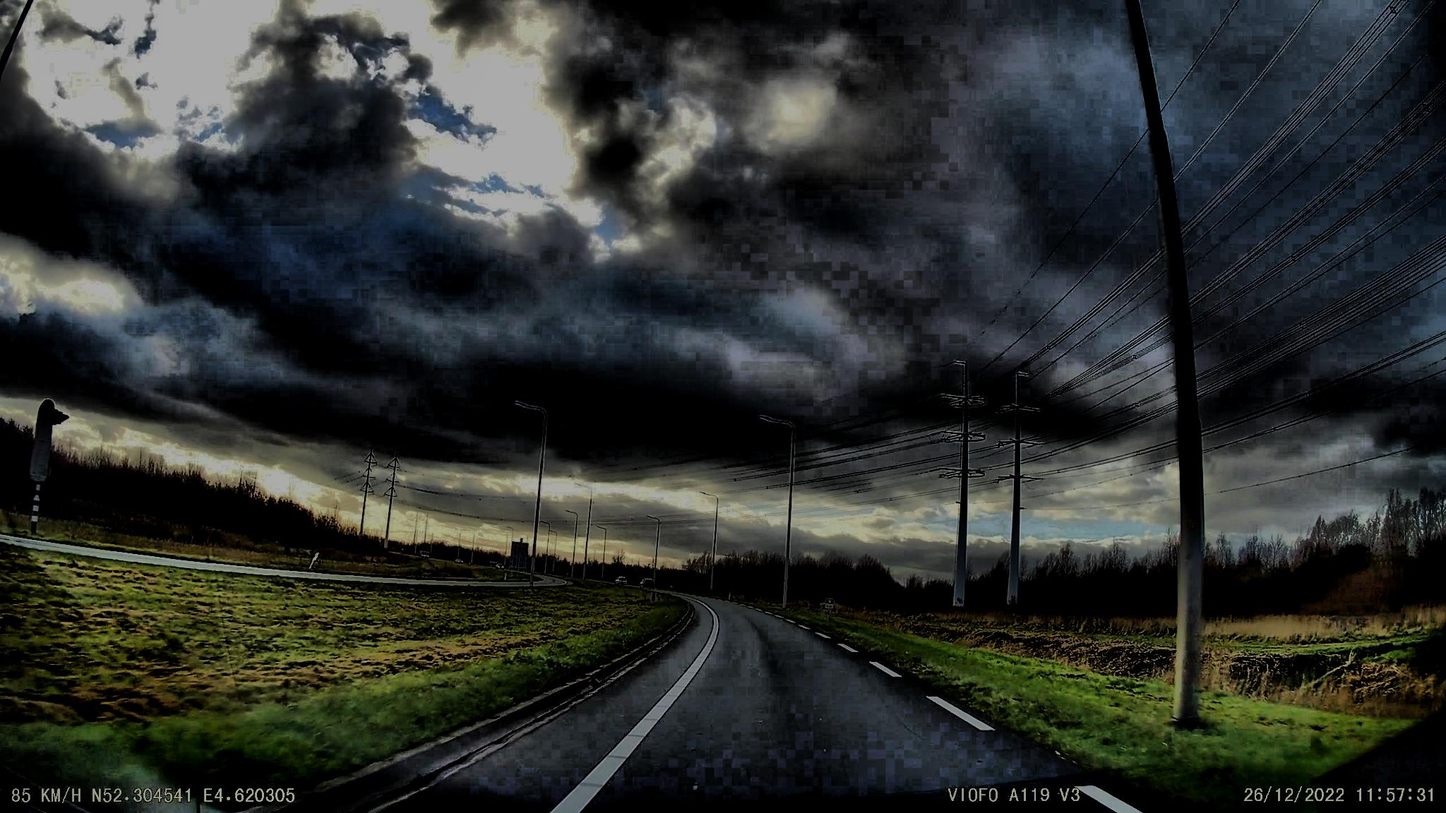Roads: (184, 600, 1158, 813)
